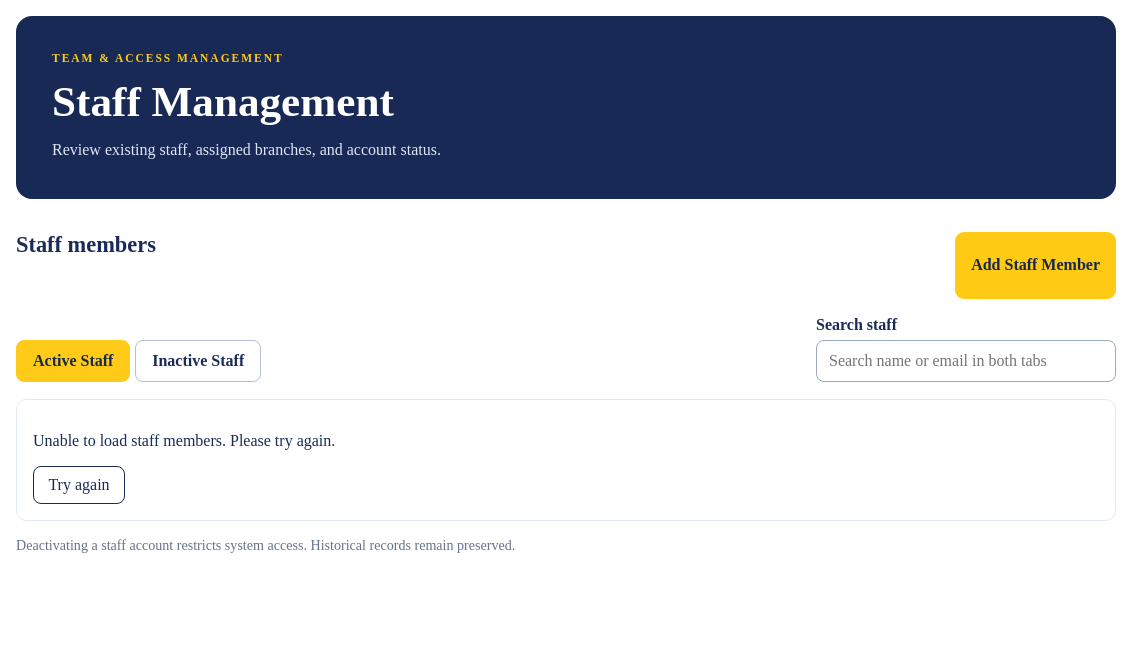
it: DDP-094 Staff Management List › shows safe error and retries
The width and height of the screenshot is (1135, 672).
Expected: the message shows "Unable to load staff members", [33,432,335,449]
What coordinates should you click on to do the following:
click the button "Try again"
I would click on:
 (79, 485)
Its box is [33,466,125,504].
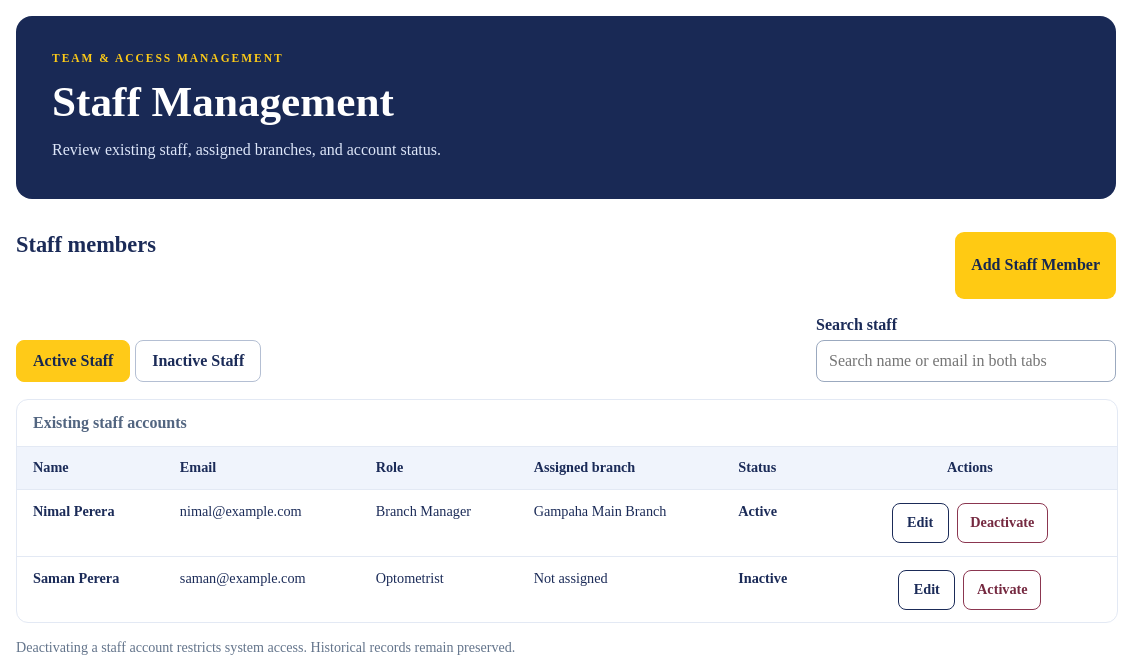
Now the column heading "Nimal Perera" is shown, box [17,490,164,556]
